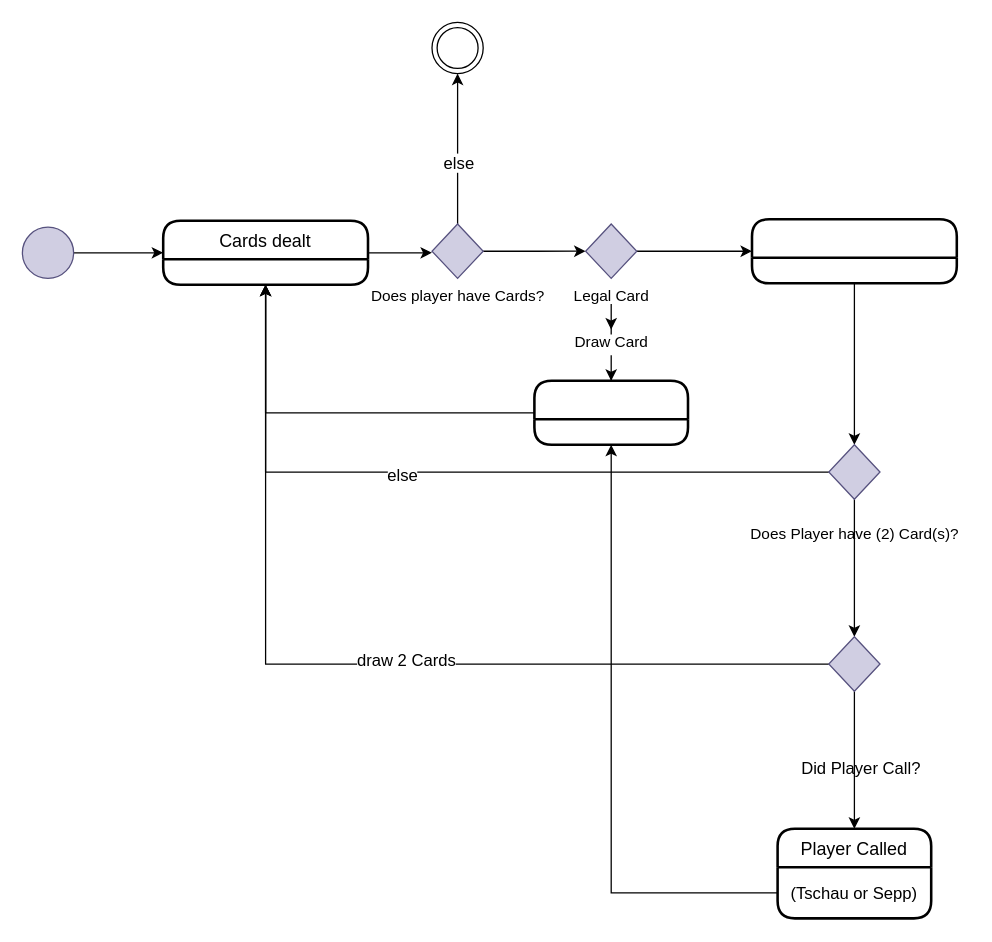
Some shapes in this 992 by 942 pixel diagram are drawn without their labels. The centre of each missing label's shape, as x and y in pixels:
"Card(s) drawn" belongs at pixel 610 412.
"Legal card played" belongs at pixel 853 250.
